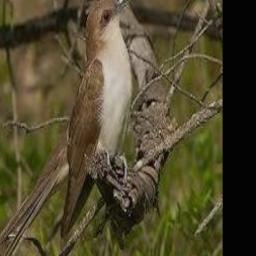Cuckoo: (59, 0, 136, 237)
